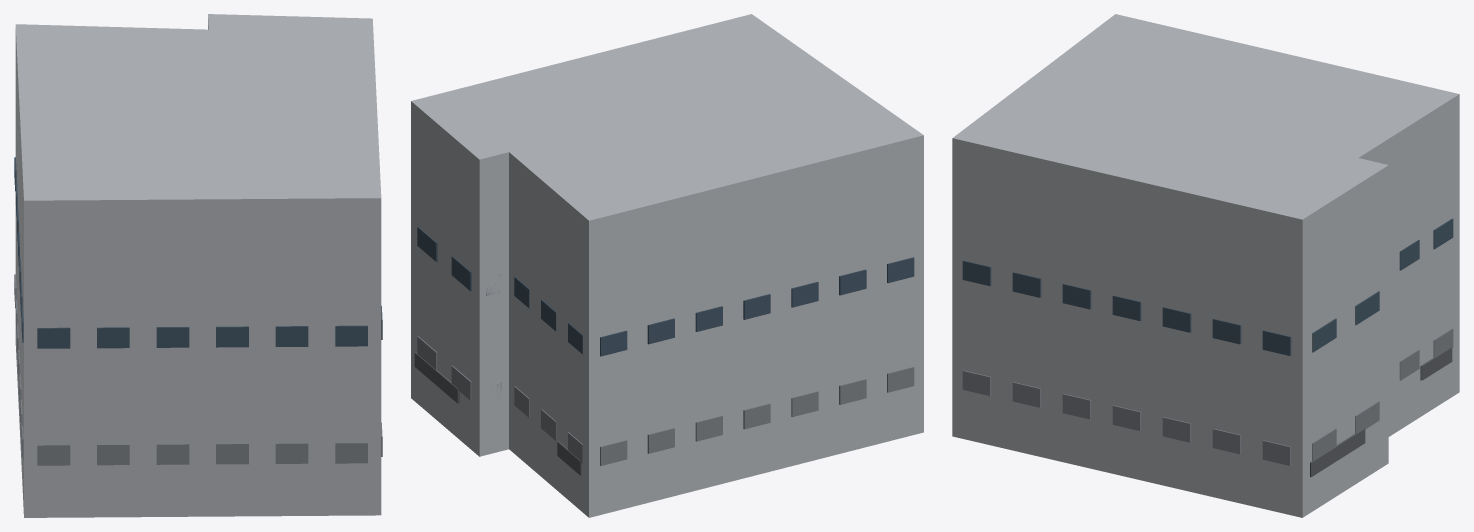
The model's file is doitt-147902__lod_0.glb.
The picture shows the model from 3 angles, left to right: view 1: azimuth 30°, elevation 25°; view 2: azimuth 150°, elevation 25°; view 3: azimuth 270°, elevation 25°; orthographic projection. The views are drawn at different scales.
Visible parts, largest first — view 1: doitt:147902__lod_0__estimated_mass, doitt:147902__lod_0__facade_01_00_05, doitt:147902__lod_0__facade_01_01_05, doitt:147902__lod_0__facade_01_00_00, doitt:147902__lod_0__facade_01_00_02, doitt:147902__lod_0__facade_01_01_02, doitt:147902__lod_0__facade_01_01_00, doitt:147902__lod_0__facade_01_01_04, doitt:147902__lod_0__facade_01_00_03, doitt:147902__lod_0__facade_01_00_01, doitt:147902__lod_0__facade_01_01_01, doitt:147902__lod_0__facade_01_01_03 (+1 smaller); view 2: doitt:147902__lod_0__estimated_mass, doitt:147902__lod_0__sign_carrier_storefront:osm:node:392715; view 3: doitt:147902__lod_0__estimated_mass, doitt:147902__lod_0__sign_carrier_storefront:osm:node:392715, doitt:147902__lod_0__facade_00_00_01, doitt:147902__lod_0__facade_00_00_04, doitt:147902__lod_0__facade_00_01_00, doitt:147902__lod_0__facade_00_01_01, doitt:147902__lod_0__facade_00_01_04, doitt:147902__lod_0__facade_00_01_05, doitt:147902__lod_0__facade_00_00_02, doitt:147902__lod_0__facade_00_00_03, doitt:147902__lod_0__facade_00_00_05, doitt:147902__lod_0__facade_00_00_06 (+4 smaller).
Boxes of the visible parts, box(x1,y1,x2,y2) form: doitt:147902__lod_0__estimated_mass: box(15, 14, 381, 517); doitt:147902__lod_0__facade_01_00_05: box(37, 444, 70, 465); doitt:147902__lod_0__facade_01_01_05: box(37, 327, 70, 348); doitt:147902__lod_0__facade_01_00_00: box(335, 442, 367, 463); doitt:147902__lod_0__facade_01_00_02: box(216, 443, 248, 464); doitt:147902__lod_0__facade_01_01_02: box(216, 326, 248, 347); doitt:147902__lod_0__facade_01_01_00: box(335, 325, 367, 346); doitt:147902__lod_0__facade_01_01_04: box(97, 327, 129, 348); doitt:147902__lod_0__facade_01_00_03: box(156, 443, 189, 464); doitt:147902__lod_0__facade_01_00_01: box(275, 443, 308, 463); doitt:147902__lod_0__facade_01_01_01: box(275, 326, 308, 346); doitt:147902__lod_0__facade_01_01_03: box(156, 327, 189, 347); doitt:147902__lod_0__estimated_mass: box(411, 14, 923, 517); doitt:147902__lod_0__sign_carrier_storefront:osm:node:392715: box(414, 352, 459, 403); doitt:147902__lod_0__estimated_mass: box(952, 14, 1459, 517); doitt:147902__lod_0__sign_carrier_storefront:osm:node:392715: box(1310, 428, 1365, 477); doitt:147902__lod_0__facade_00_00_01: box(1212, 428, 1241, 454); doitt:147902__lod_0__facade_00_00_04: box(1062, 393, 1091, 419); doitt:147902__lod_0__facade_00_01_00: box(1262, 330, 1291, 355); doitt:147902__lod_0__facade_00_01_01: box(1212, 318, 1241, 344); doitt:147902__lod_0__facade_00_01_04: box(1062, 284, 1091, 309); doitt:147902__lod_0__facade_00_01_05: box(1012, 272, 1041, 297); doitt:147902__lod_0__facade_00_00_02: box(1162, 417, 1191, 442); doitt:147902__lod_0__facade_00_00_03: box(1112, 405, 1141, 430); doitt:147902__lod_0__facade_00_00_05: box(1012, 382, 1041, 407); doitt:147902__lod_0__facade_00_00_06: box(962, 370, 991, 395).
Bounding box in the file's own units: 33.73 × 22.82 × 35.16.
